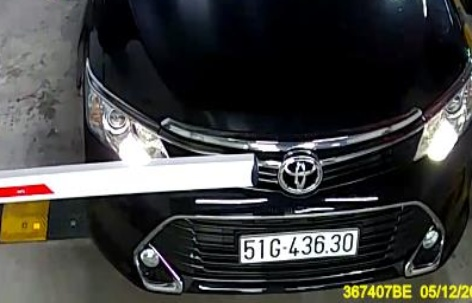plate: (232, 224, 364, 266)
